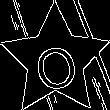O_N: (28, 29, 83, 92)
